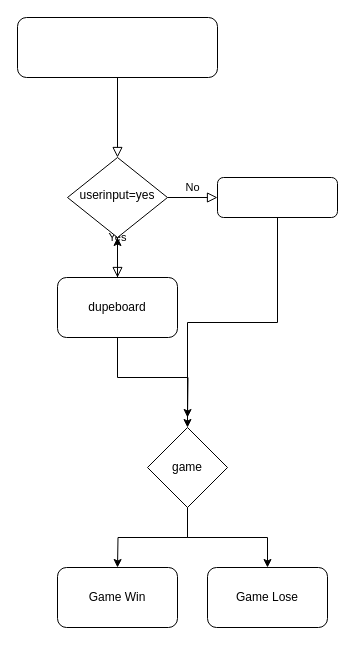
The diagram is 355 pixels wide and 645 high, and some of its shapes have lost their labels. Each missing label, with the centre of its shape:
Random Number Seed time0 const COL=8 String useri, work-"yes": (x=117, y=47)
regularboard: (x=277, y=197)
